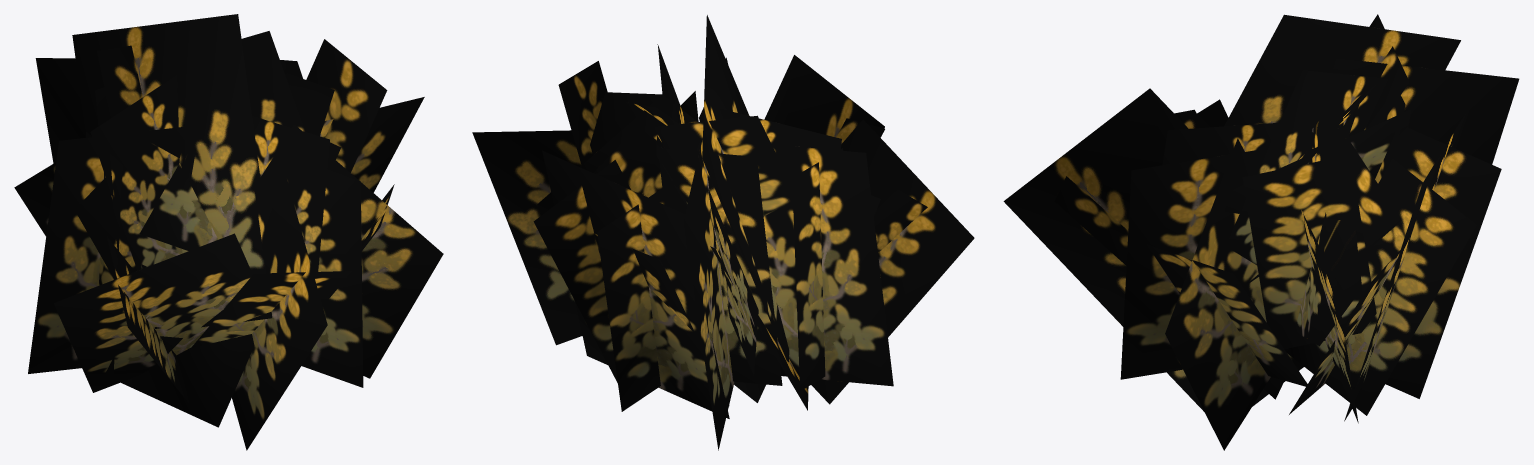
The model's file is P_DesertBush03.obj.
The picture shows the model from 3 angles, left to right: view 1: azimuth 30°, elevation 25°; view 2: azimuth 150°, elevation 25°; view 3: azimuth 270°, elevation 25°; orthographic projection. The views are drawn at different scales.
Bounding box in the file's own units: 4.25 × 3.79 × 4.16.
